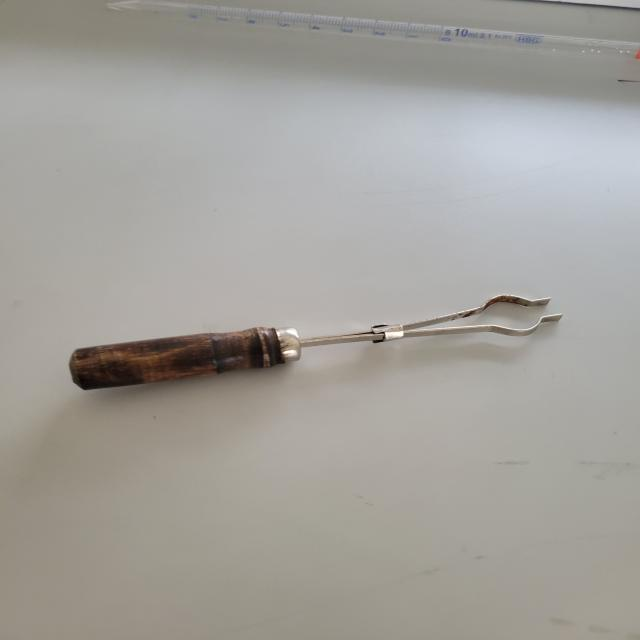TestTube_Holder: (47, 275, 577, 419)
